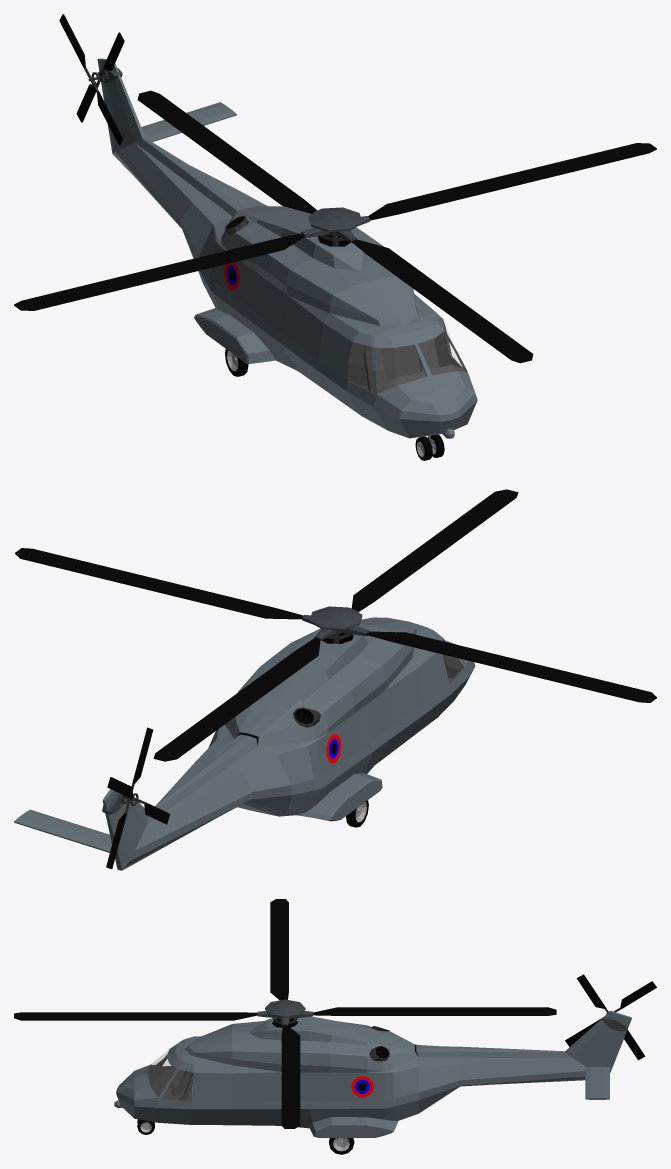
3 views of the same model, one above another, from view 1: azimuth 30°, elevation 25°; view 2: azimuth 150°, elevation 25°; view 3: azimuth 270°, elevation 25° (orthographic). The views are drawn at different scales.
Parts seen in each view (by area): view 1: Circle.016, Circle.020, Circle.019, Circle.021; view 2: Circle.016, Circle.020, Circle.021; view 3: Circle.016, Circle.020, Circle.019, Circle.021.
Part boxes in pixels (x1,y1,x2,y2): Circle.016: (97,58,477,438); Circle.020: (14,90,656,363); Circle.019: (348,322,466,393); Circle.021: (59,14,124,145); Circle.016: (14,617,475,870); Circle.020: (15,489,656,761); Circle.021: (106,727,170,869); Circle.016: (114,1011,631,1137); Circle.020: (14,899,556,1128); Circle.019: (148,1050,193,1101); Circle.021: (565,974,656,1060).
Size of the model in its own units: 2163 by 675 by 2563.
